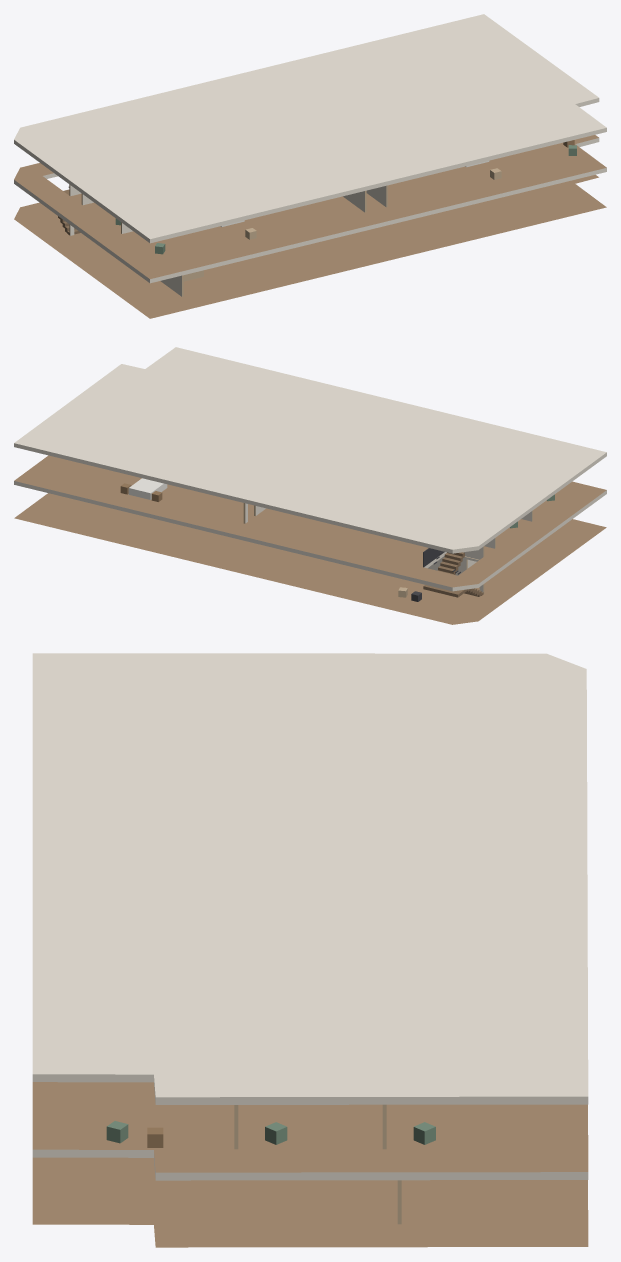
File: interior.glb
3 renders of one model, top to bottom at view 1: azimuth 30°, elevation 25°; view 2: azimuth 150°, elevation 25°; view 3: azimuth 270°, elevation 25°, orthographic. The views are drawn at different scales.
Visible parts, largest first — view 1: slabs, partitions, coarse-s1; view 2: slabs, stair, partitions, coarse-s1; view 3: slabs, coarse-s1.
Boxes of the visible parts, x1=… form: slabs: x1=14, y1=14, x2=606, y2=318; partitions: x1=69, y1=184, x2=387, y2=296; coarse-s1: x1=115, y1=140, x2=576, y2=254; slabs: x1=14, y1=347, x2=606, y2=624; stair: x1=423, y1=548, x2=483, y2=597; partitions: x1=243, y1=503, x2=532, y2=594; coarse-s1: x1=120, y1=478, x2=554, y2=528; slabs: x1=32, y1=653, x2=588, y2=1247; coarse-s1: x1=106, y1=1121, x2=435, y2=1147.
Bounding box in the file's own units: 31.54 × 5 × 16.69.
